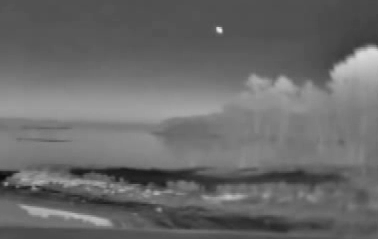Target: (216, 28, 222, 33)
